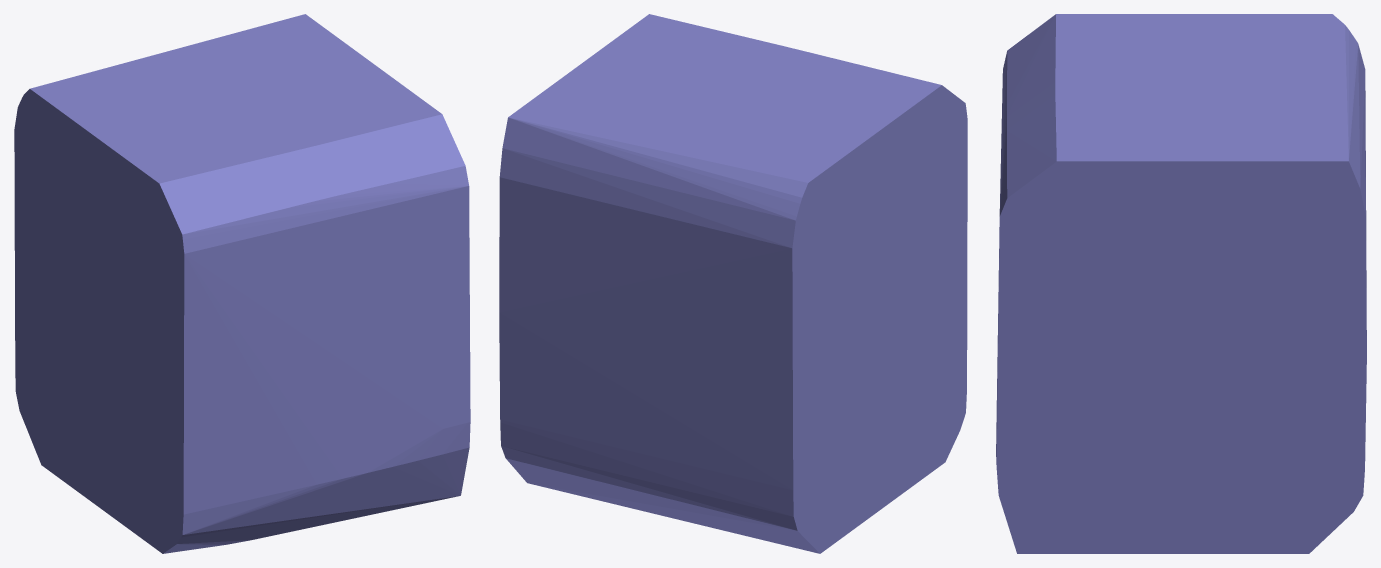
3 views of the same model, side by side, from view 1: azimuth 30°, elevation 25°; view 2: azimuth 150°, elevation 25°; view 3: azimuth 270°, elevation 25° (orthographic). The views are drawn at different scales.
Bounding box in the file's own units: 0.034 × 0.0422 × 0.0362.
